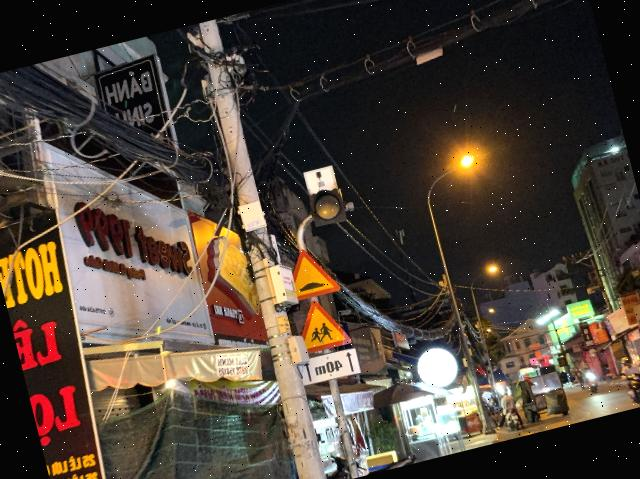duong-co-go-giam-toc: (287, 242, 341, 300)
tre-em-qua-duong: (294, 294, 352, 355)
